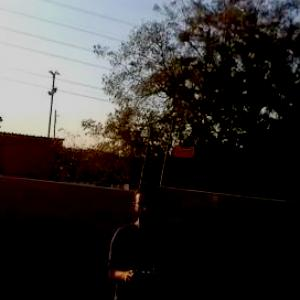follow: (100, 175, 179, 299)
